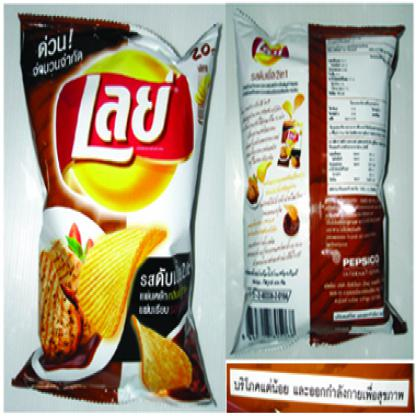potatochip: (9, 9, 225, 411), (223, 5, 415, 357)
